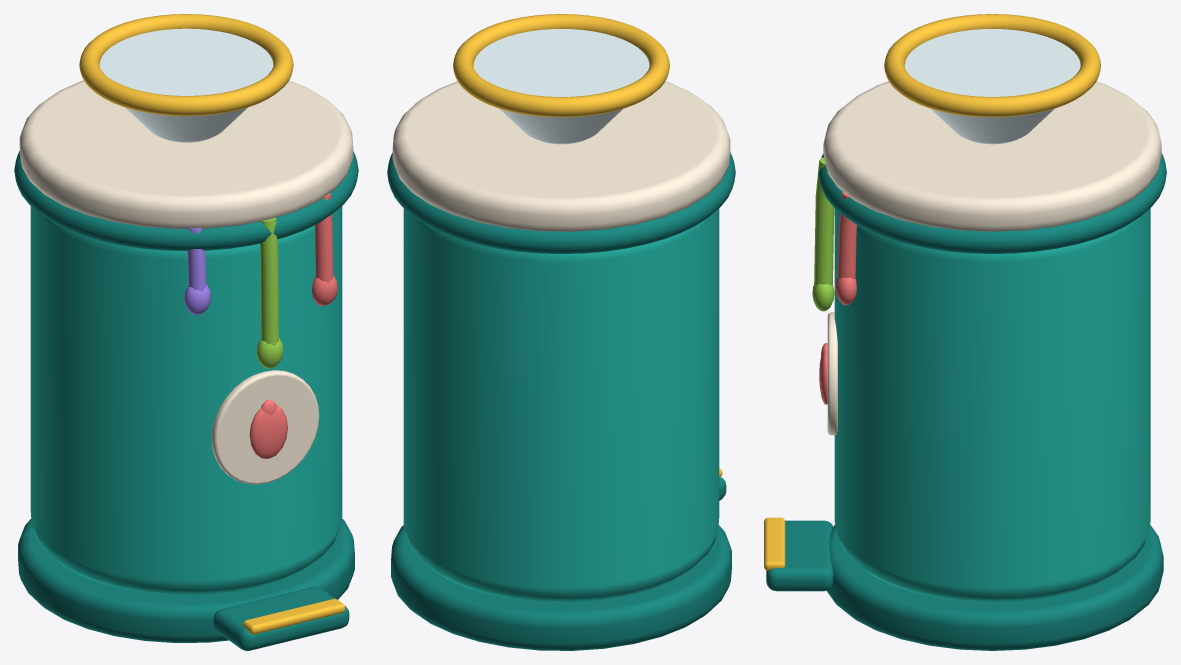
The model's file is SiphonBin.fbx.
The picture shows the model from 3 angles, left to right: view 1: azimuth 30°, elevation 25°; view 2: azimuth 150°, elevation 25°; view 3: azimuth 270°, elevation 25°; orthographic projection.
Visible parts, largest first — view 1: SiphonBin mesh; view 2: SiphonBin mesh; view 3: SiphonBin mesh.
Part boxes in pixels (x1,y1,x2,y2): SiphonBin mesh: (14, 14, 358, 650); SiphonBin mesh: (387, 14, 735, 650); SiphonBin mesh: (764, 14, 1166, 650).
Bounding box in the file's own units: 0.408 × 0.68 × 0.4715.
